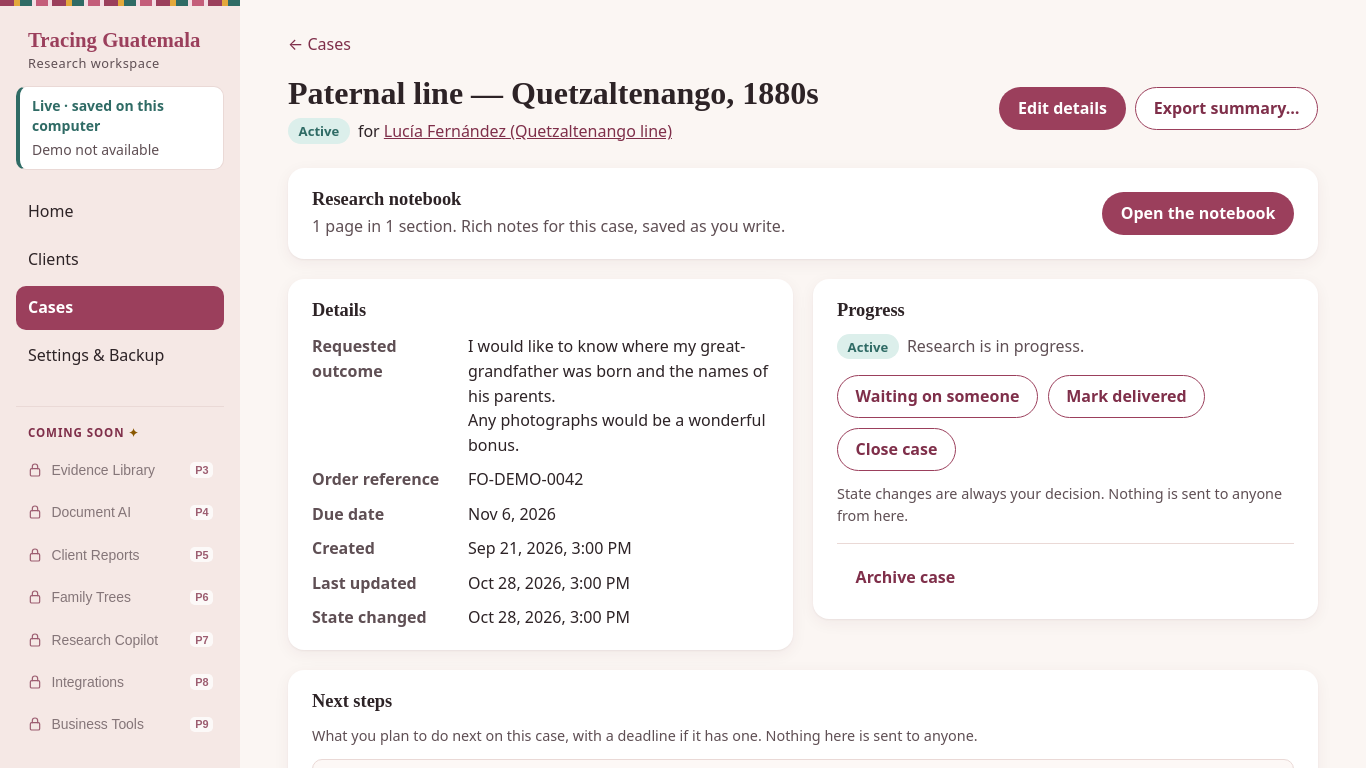
it: entry point on the case page › shows the seeded notebook and opens it
The width and height of the screenshot is (1366, 768).
Expected: the text "1 page in 1 section" is shown, 312,215 -> 785,237
Click the link "Open the notebook" at x=1198, y=213, box 1102,192 -> 1294,235
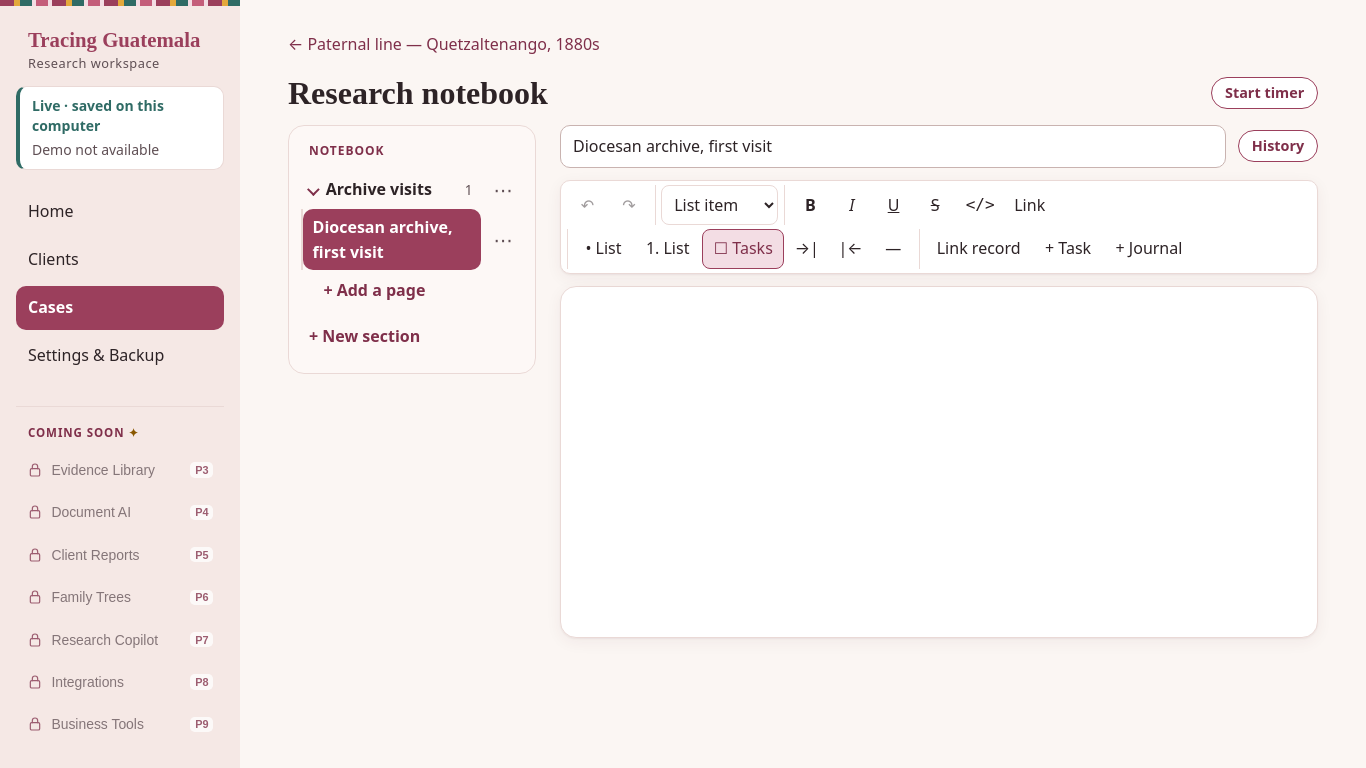
Expected: the heading "Research notebook" is shown, 288,73 -> 548,113
Expected: the link "Diocesan archive, first visit" is shown, 303,209 -> 481,270
